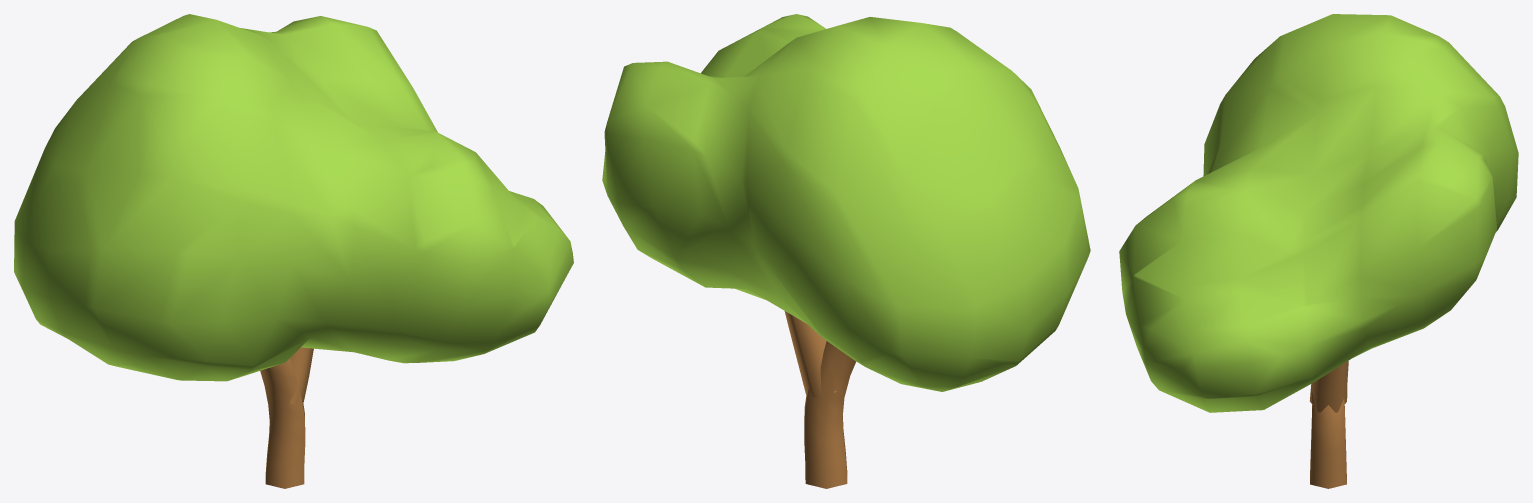
Rendered from tree.4.fbx.
3 views of the same model, side by side, from view 1: azimuth 30°, elevation 25°; view 2: azimuth 150°, elevation 25°; view 3: azimuth 270°, elevation 25° (orthographic). The views are drawn at different scales.
Parts seen in each view (by area): view 1: Canopy.004; view 2: Canopy.004; view 3: Canopy.004.
Boxes of the visible parts, x1,y1,x2,y2 form: Canopy.004: (14, 14, 573, 488); Canopy.004: (602, 14, 1090, 488); Canopy.004: (1119, 14, 1518, 488).
Bounding box in the file's own units: 368 × 349 × 294.
